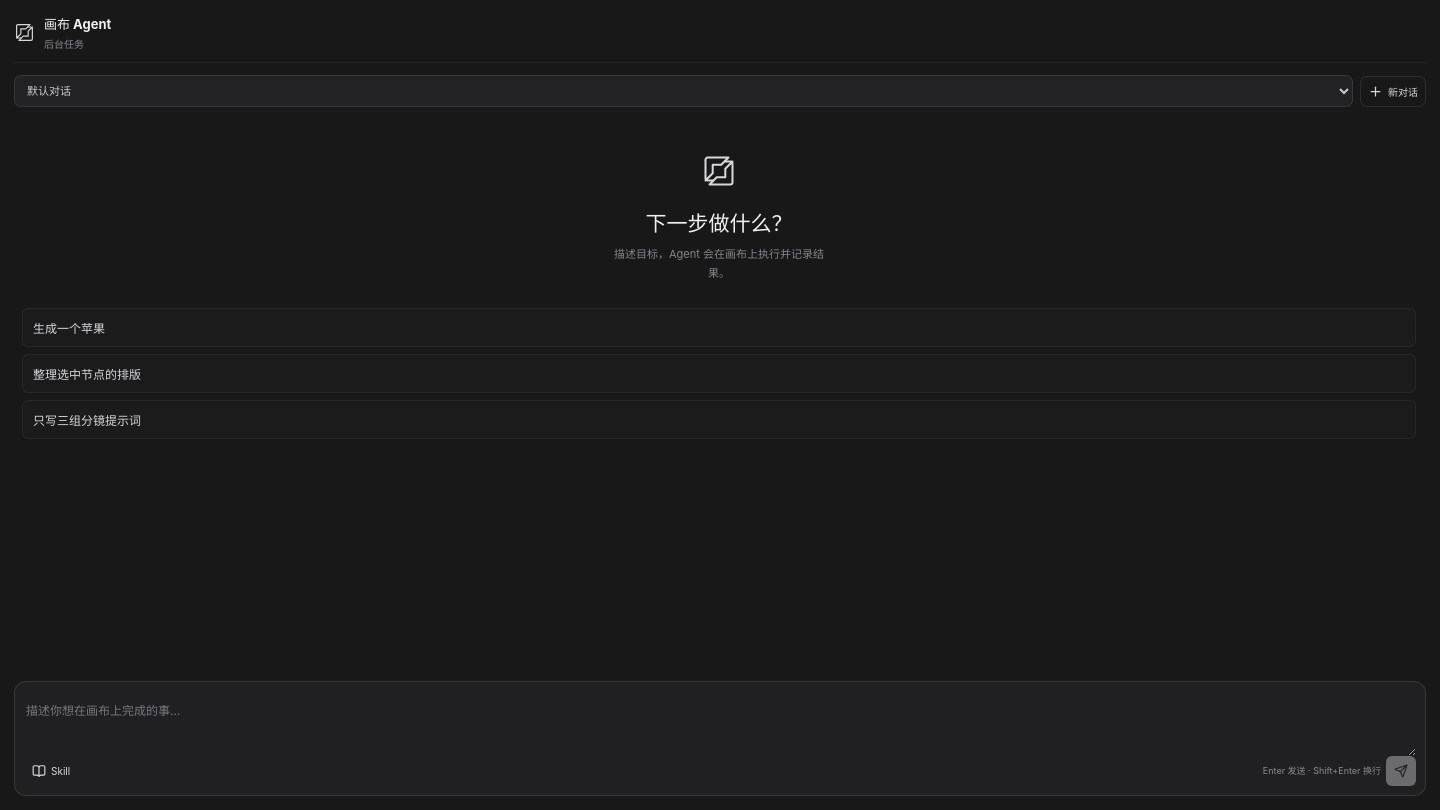
Test: AgentSidebarPanel backend runs › reports missing canvas scope instead of running a local harness
Type "生成苹果" into the text box named "Agent 指令输入框" at (720, 724), box [24,691,1416,756]
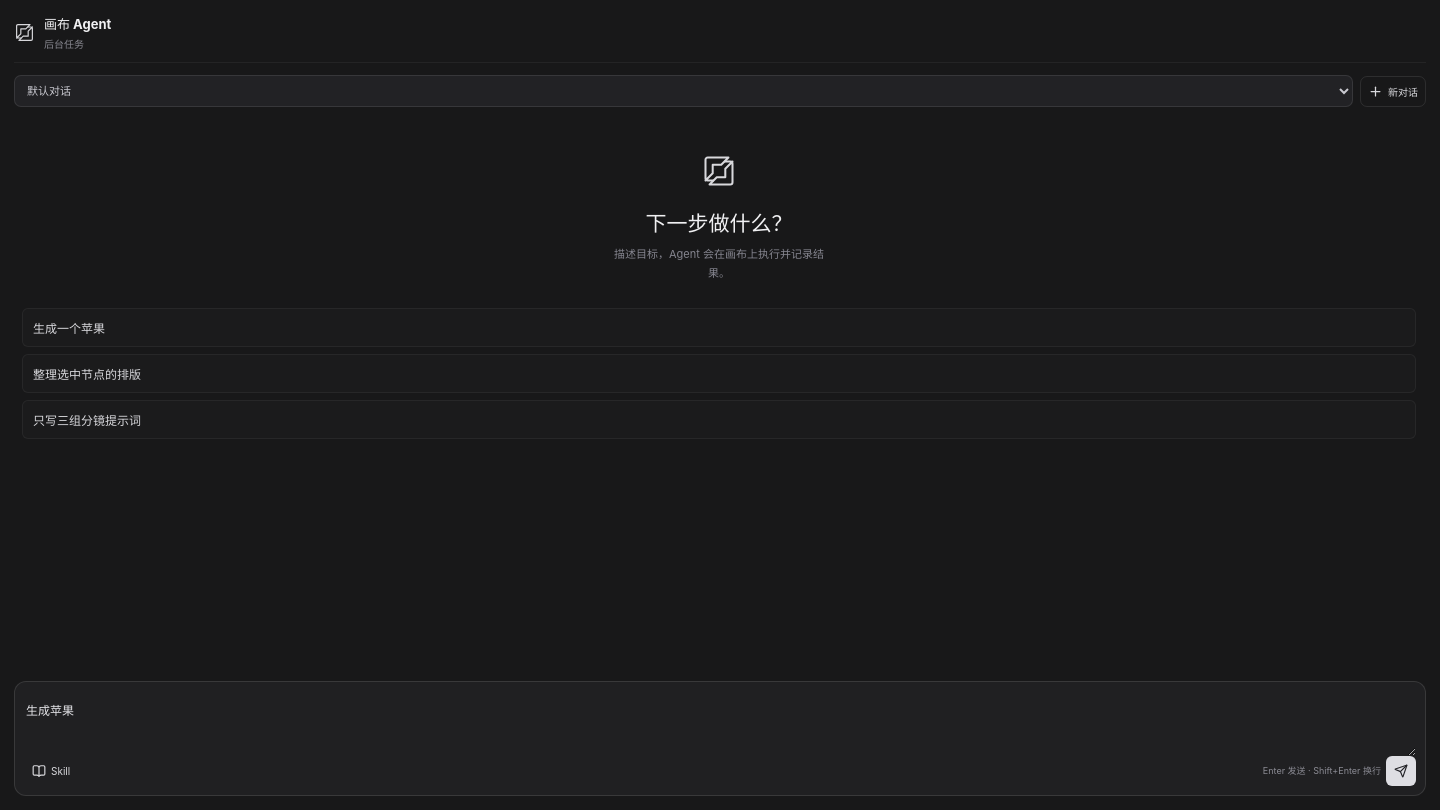
Click the button named "发送" at (1401, 771), box [1386,756,1416,786]
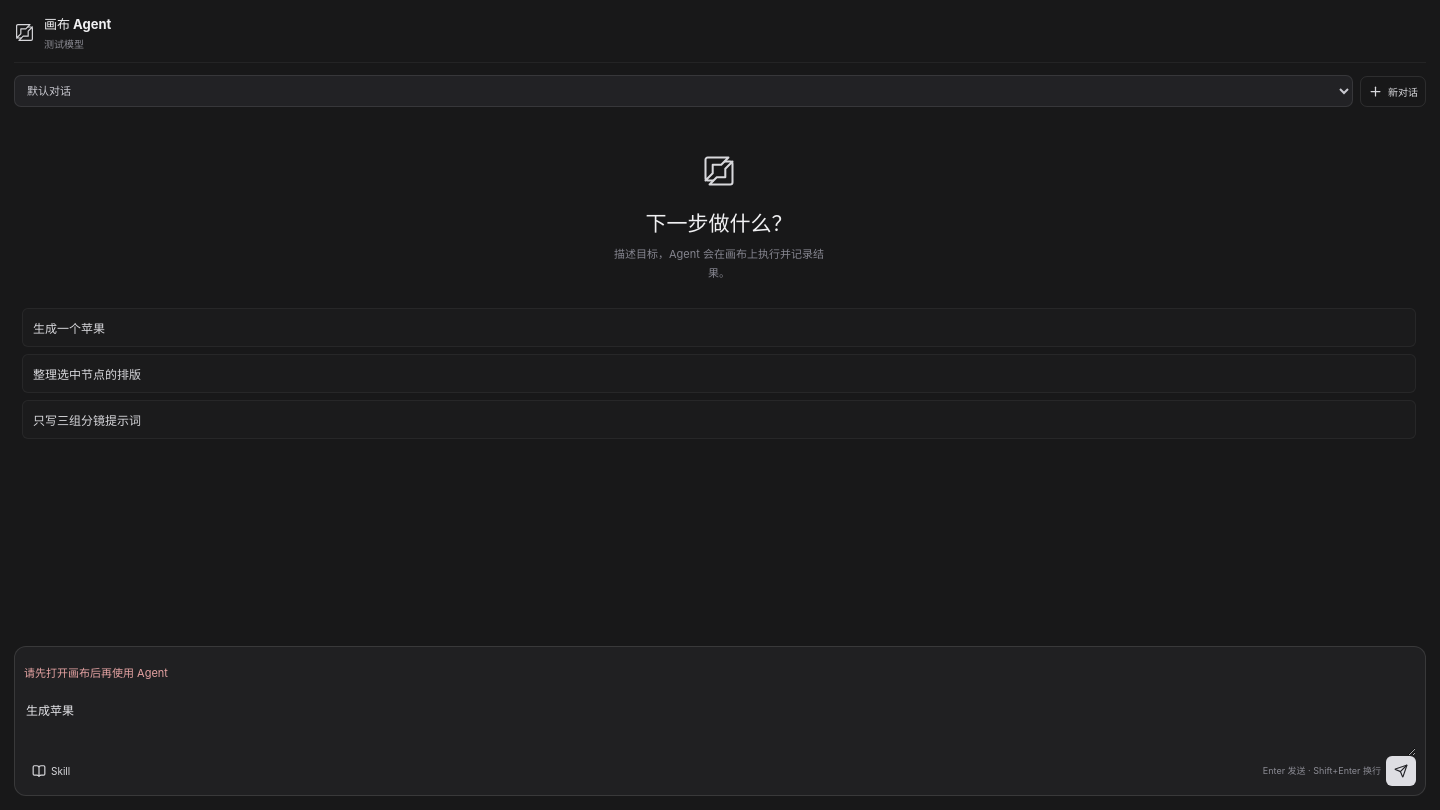
Result: the text "请先打开画布后再使用 Agent" is shown at [24,666,168,680]
